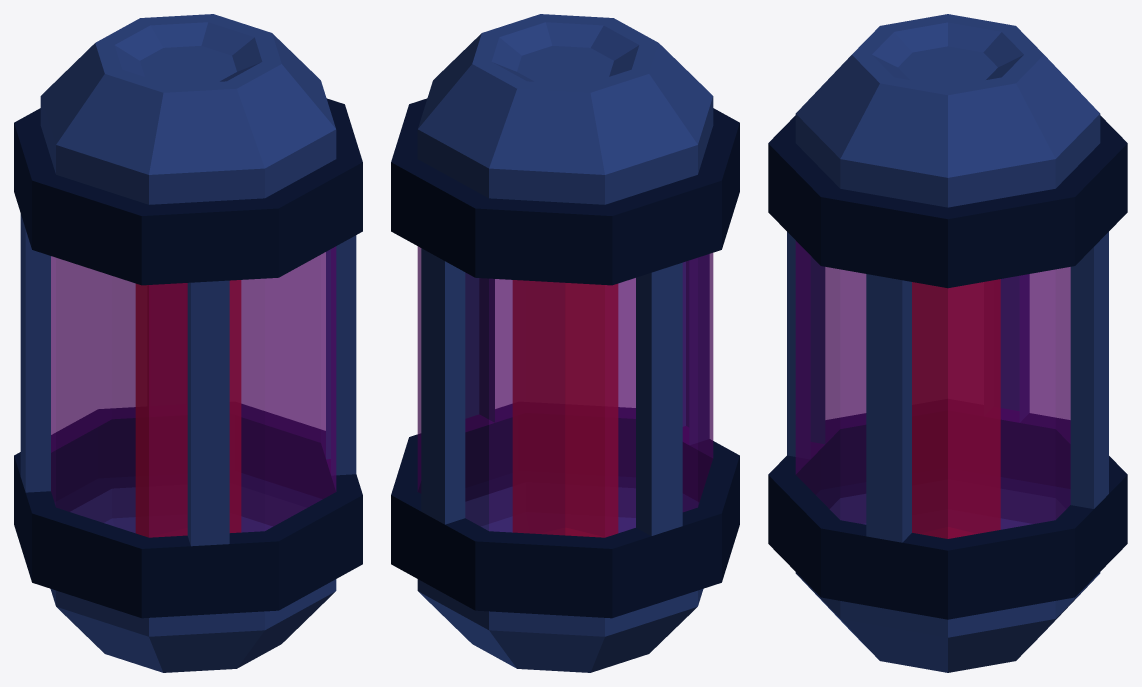
File: beamPickUp.fbx
3 renders of one model, left to right at view 1: azimuth 30°, elevation 25°; view 2: azimuth 150°, elevation 25°; view 3: azimuth 270°, elevation 25°, orthographic.
Visible parts, largest first — view 1: beamPickUp; view 2: beamPickUp; view 3: beamPickUp.
Part boxes in pixels (bbox=[...]): beamPickUp: bbox=[14, 14, 362, 672]; beamPickUp: bbox=[391, 14, 739, 672]; beamPickUp: bbox=[768, 14, 1127, 672].
Size of the model in its own units: 2.36 by 4.19 by 2.36.
